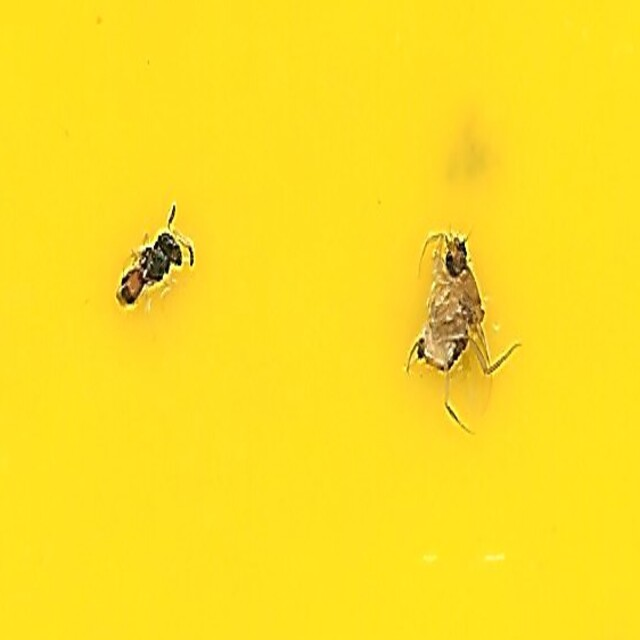Brachycera: (400, 225, 526, 439)
Hymenoptera: (114, 201, 196, 326)
